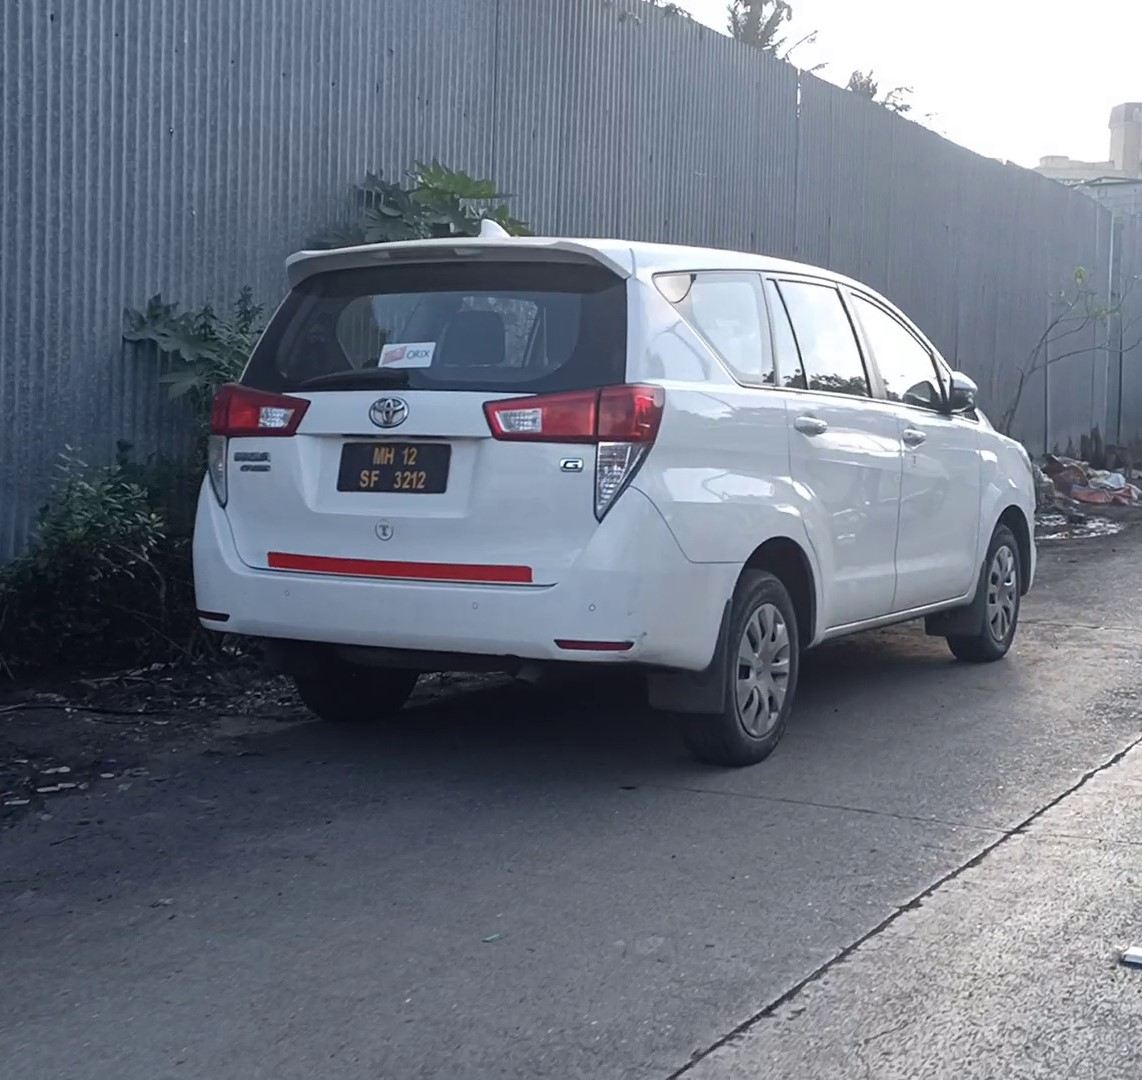MH12SF3212: (335, 440, 454, 496)
